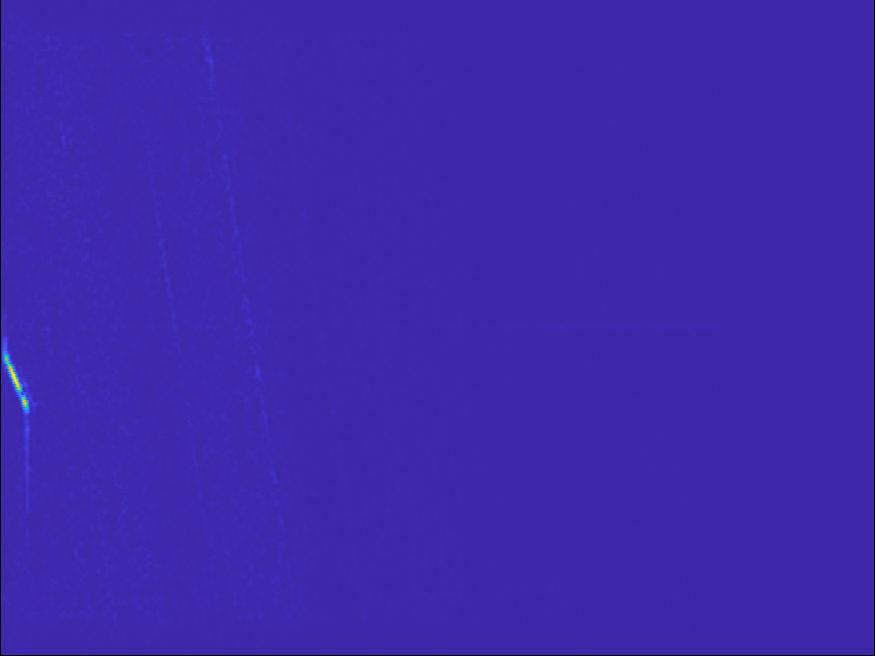Interference: (1, 328, 46, 432)
